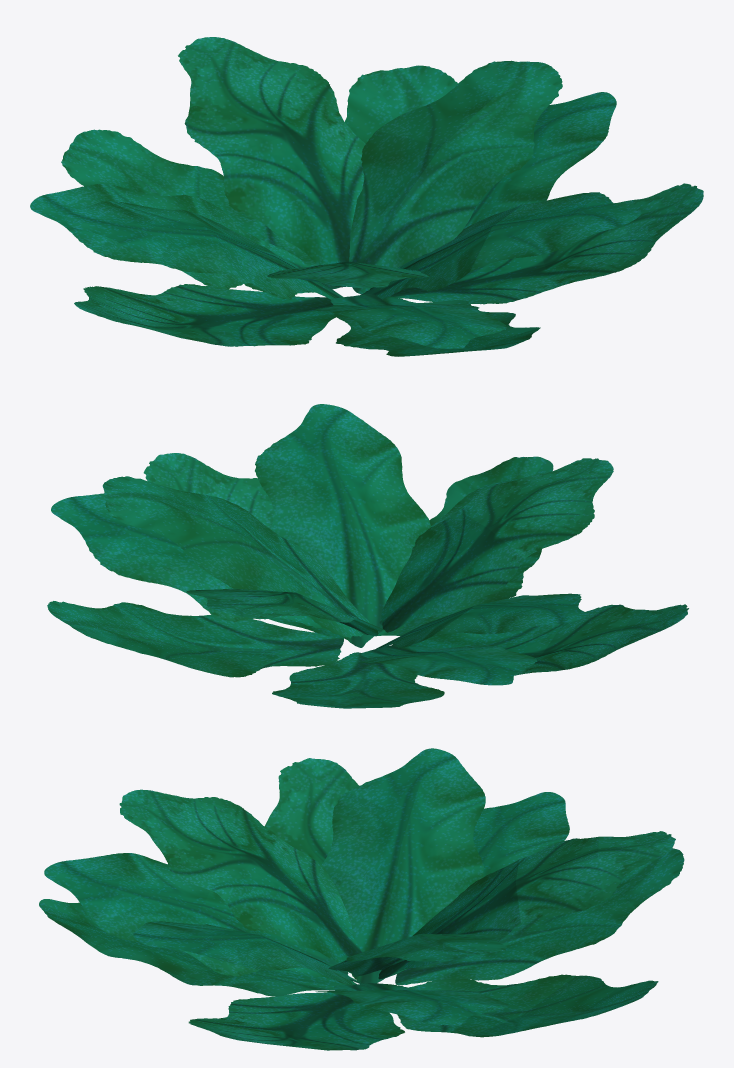
File: Bush1.obj
3 renders of one model, top to bottom at view 1: azimuth 30°, elevation 25°; view 2: azimuth 150°, elevation 25°; view 3: azimuth 270°, elevation 25°, orthographic. The views are drawn at different scales.
Parts seen in each view (by area): view 1: Plane.002, Plane.010, Plane.006, Plane.001, Plane.013, Plane.011, Plane.007, Plane.009, Plane.003, Plane.008, Plane.004, Plane.005 (+1 smaller); view 2: Plane.011, Plane.012, Plane.010, Plane.004, Plane.006, Plane.009, Plane.007, Plane.013, Plane.003, Plane.001, Plane.002, Plane.005 (+1 smaller); view 3: Plane.013, Plane.012, Plane.002, Plane.008, Plane.007, Plane.001, Plane.004, Plane.005, Plane.006, Plane.011, Plane.003, Plane.009 (+1 smaller).
Boxes of the visible parts, x1,y1,x2,y2 form: Plane.002: (178,37,365,265); Plane.010: (349,60,562,294); Plane.006: (74,284,335,346); Plane.001: (391,183,703,304); Plane.013: (65,201,343,299); Plane.011: (361,192,641,299); Plane.007: (61,129,339,293); Plane.009: (398,92,616,268); Plane.003: (30,184,320,292); Plane.008: (315,294,506,348); Plane.004: (345,65,457,143); Plane.005: (334,300,540,356); Plane.011: (255,404,431,647); Plane.012: (381,458,613,632); Plane.010: (102,476,378,638); Plane.004: (47,601,343,677); Plane.006: (391,604,688,675); Plane.009: (51,493,327,630); Plane.007: (272,652,444,708); Plane.013: (376,593,588,651); Plane.003: (359,645,537,685); Plane.001: (143,453,344,638); Plane.002: (186,588,386,635); Plane.005: (374,456,553,636); Plane.013: (322,748,485,983); Plane.012: (119,789,362,963); Plane.002: (378,831,675,979); Plane.008: (44,853,348,978); Plane.007: (395,848,684,985); Plane.001: (188,992,404,1050); Plane.004: (397,974,658,1037); Plane.005: (39,899,356,996); Plane.006: (264,758,358,973); Plane.011: (133,921,365,985); Plane.003: (473,792,569,877); Plane.009: (314,983,508,1025).
Bounding box in the file's own units: 4.18 × 0.9953 × 4.03.
